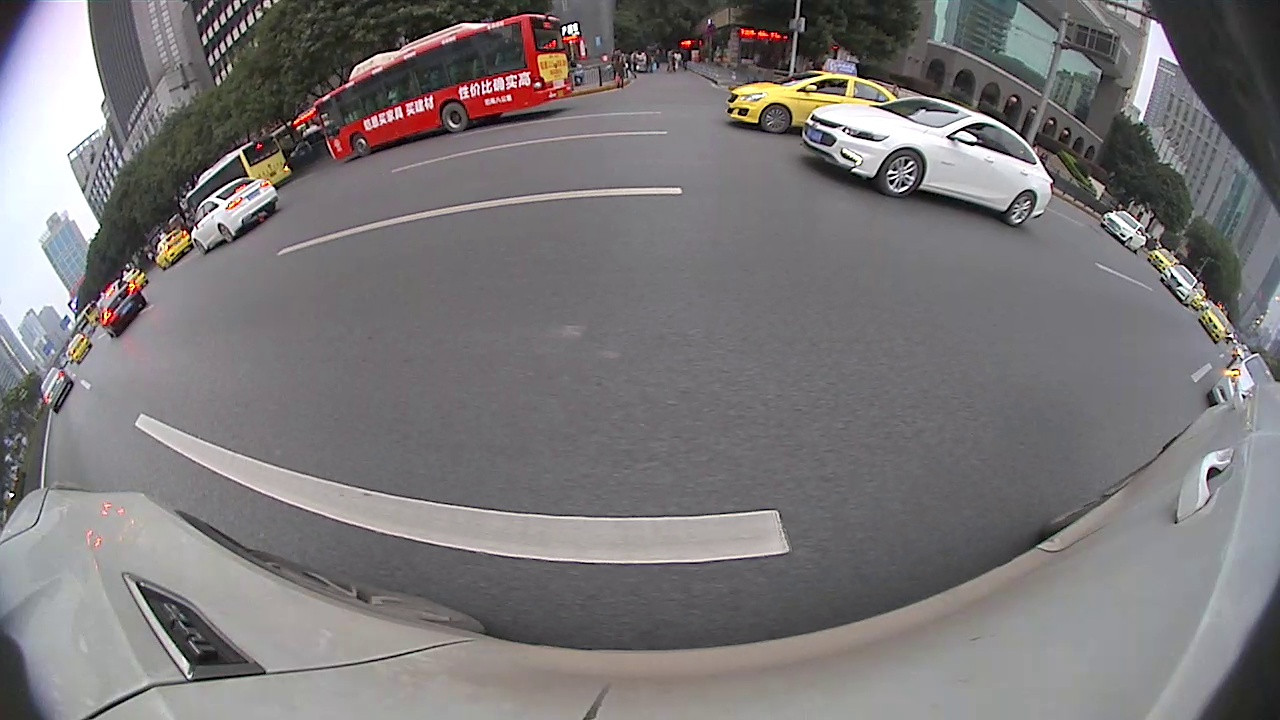bus: (314, 13, 572, 161), (184, 134, 295, 222)
car: (801, 94, 1054, 227), (725, 70, 905, 134), (190, 177, 278, 255), (1210, 353, 1278, 407), (95, 277, 149, 340), (1100, 210, 1146, 255), (39, 365, 75, 415), (154, 227, 194, 272), (1158, 263, 1196, 310), (1199, 304, 1230, 344)
front: (879, 150, 924, 199), (761, 105, 790, 132), (354, 133, 367, 156), (196, 240, 204, 253)
rear: (1006, 192, 1036, 225), (441, 103, 466, 131), (218, 224, 231, 242)
